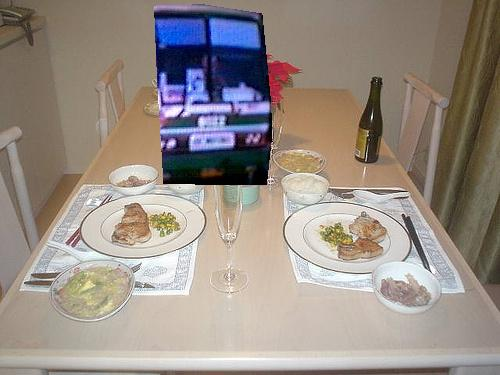tampered: (155, 5, 272, 185)
